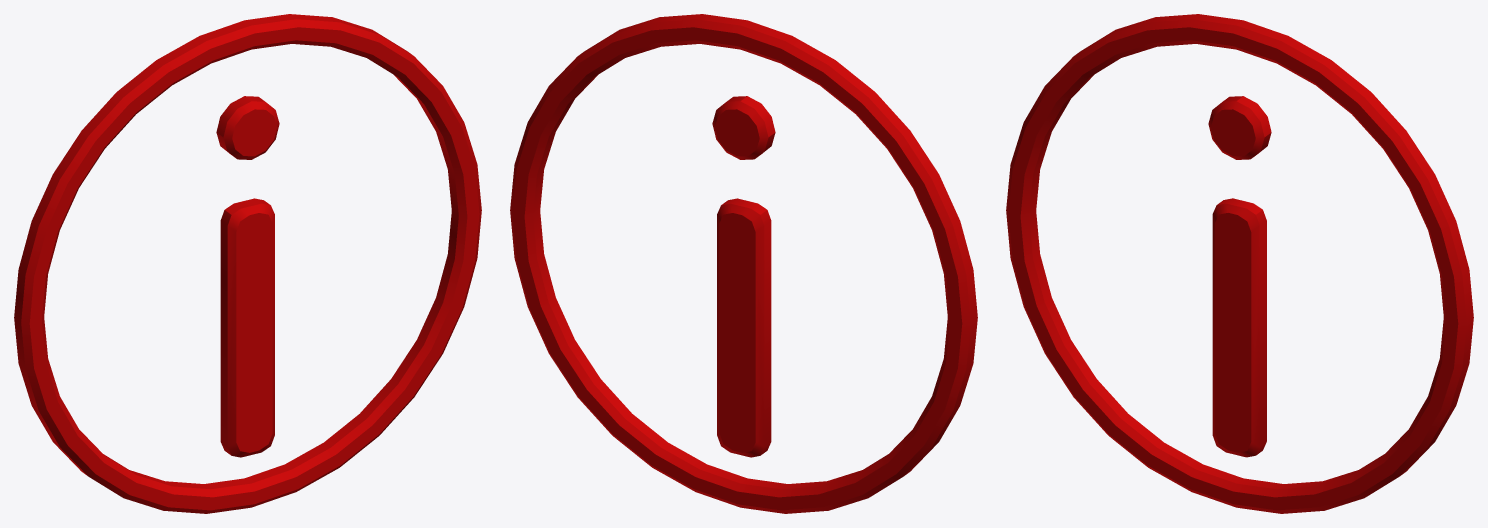
Rendered from Information.obj.
3 renders of one model, left to right at view 1: azimuth 30°, elevation 25°; view 2: azimuth 150°, elevation 25°; view 3: azimuth 330°, elevation 25°, orthographic.
Parts seen in each view (by area): view 1: Circle; view 2: Circle; view 3: Circle.
Part boxes in pixels (x1,y1,x2,y2): Circle: (14,14,481,513); Circle: (510,14,977,513); Circle: (1006,14,1473,513).
Size of the model in its own units: 0.8 by 0.8 by 0.04.
